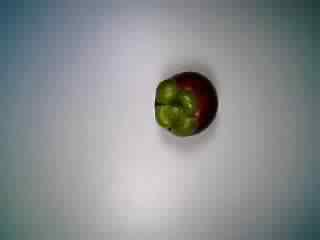mangosteen: (143, 68, 226, 143)
